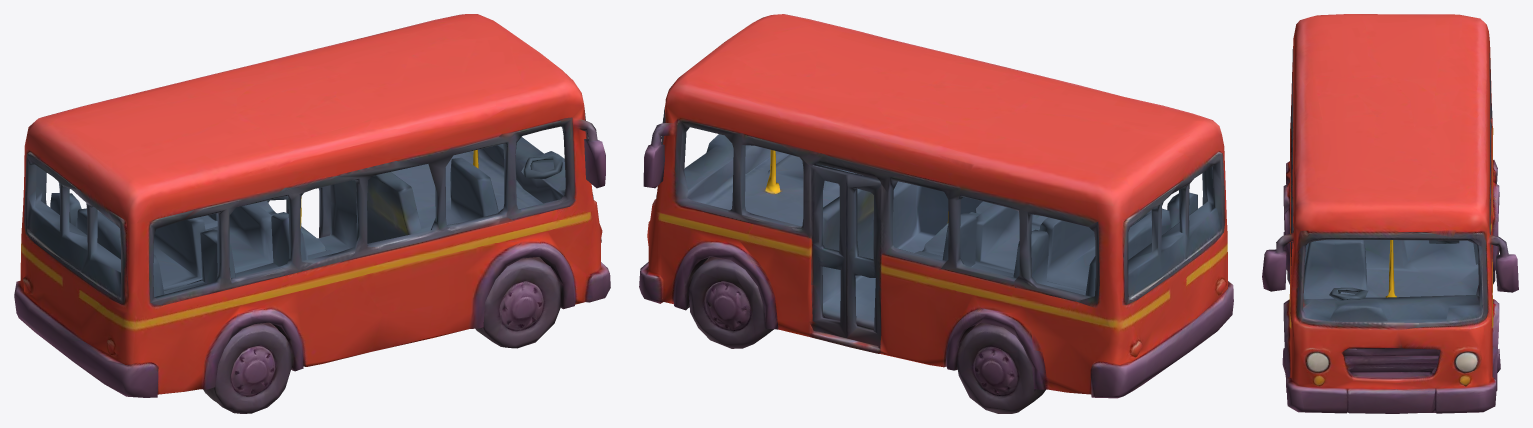
The model's file is street-bus.glb.
The picture shows the model from 3 angles, left to right: view 1: azimuth 30°, elevation 25°; view 2: azimuth 150°, elevation 25°; view 3: azimuth 270°, elevation 25°; orthographic projection. The views are drawn at different scales.
Visible parts, largest first — view 1: tripo_node_9c6de552-df5c-4ab2-b836-999eb974d98a; view 2: tripo_node_9c6de552-df5c-4ab2-b836-999eb974d98a; view 3: tripo_node_9c6de552-df5c-4ab2-b836-999eb974d98a.
Boxes of the visible parts, x1,y1,x2,y2 form: tripo_node_9c6de552-df5c-4ab2-b836-999eb974d98a: (14, 14, 610, 413); tripo_node_9c6de552-df5c-4ab2-b836-999eb974d98a: (639, 14, 1233, 413); tripo_node_9c6de552-df5c-4ab2-b836-999eb974d98a: (1262, 14, 1518, 413).
Bounding box in the file's own units: 1 × 0.481 × 0.5035.
Materials: 1 (1 with a texture image).
